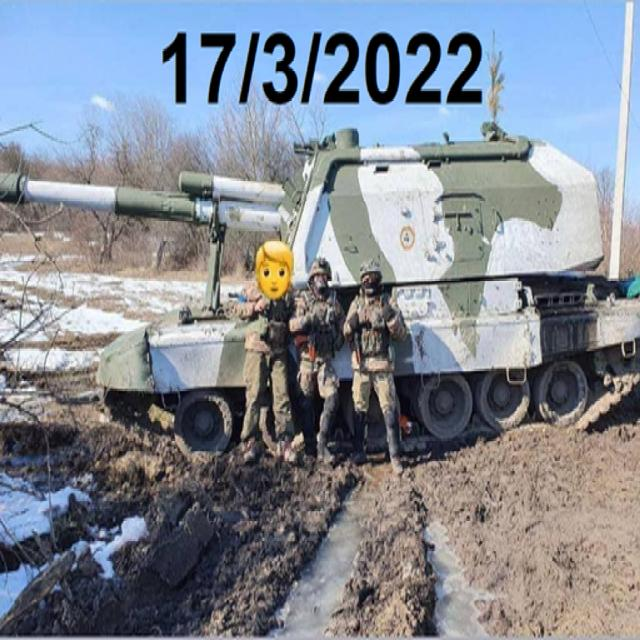ART: (0, 109, 640, 442)
